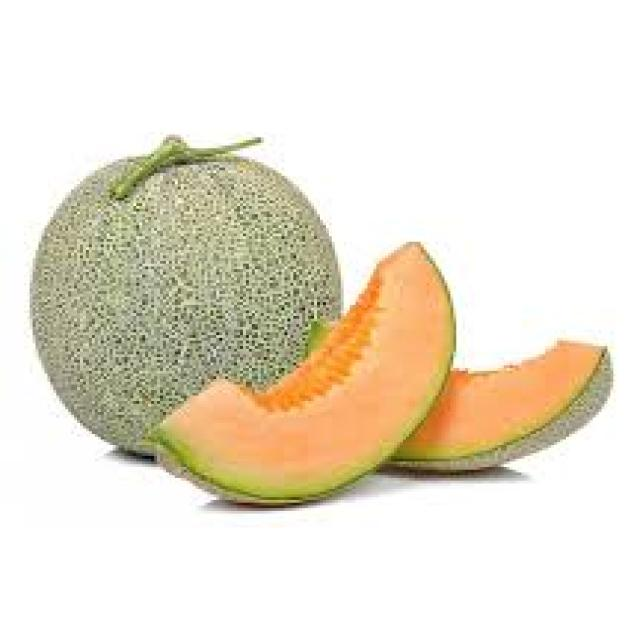cantaloupe: (30, 137, 341, 459), (145, 240, 460, 507)
